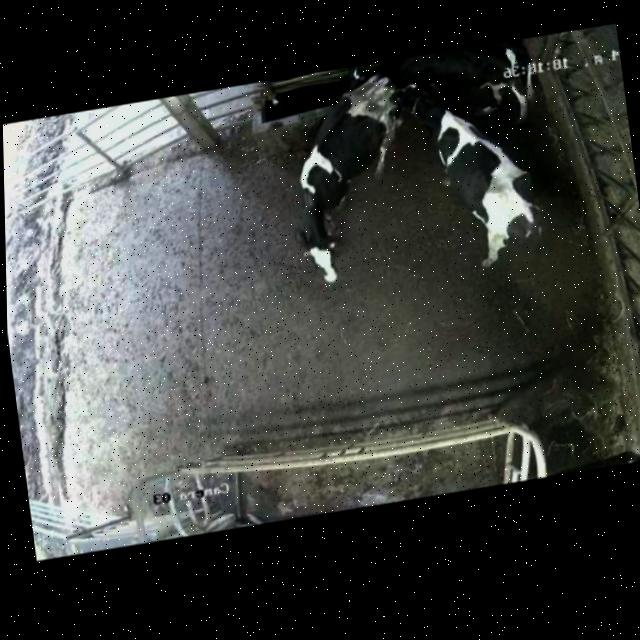stand: (270, 74, 423, 311), (398, 67, 548, 298), (347, 27, 536, 119)
